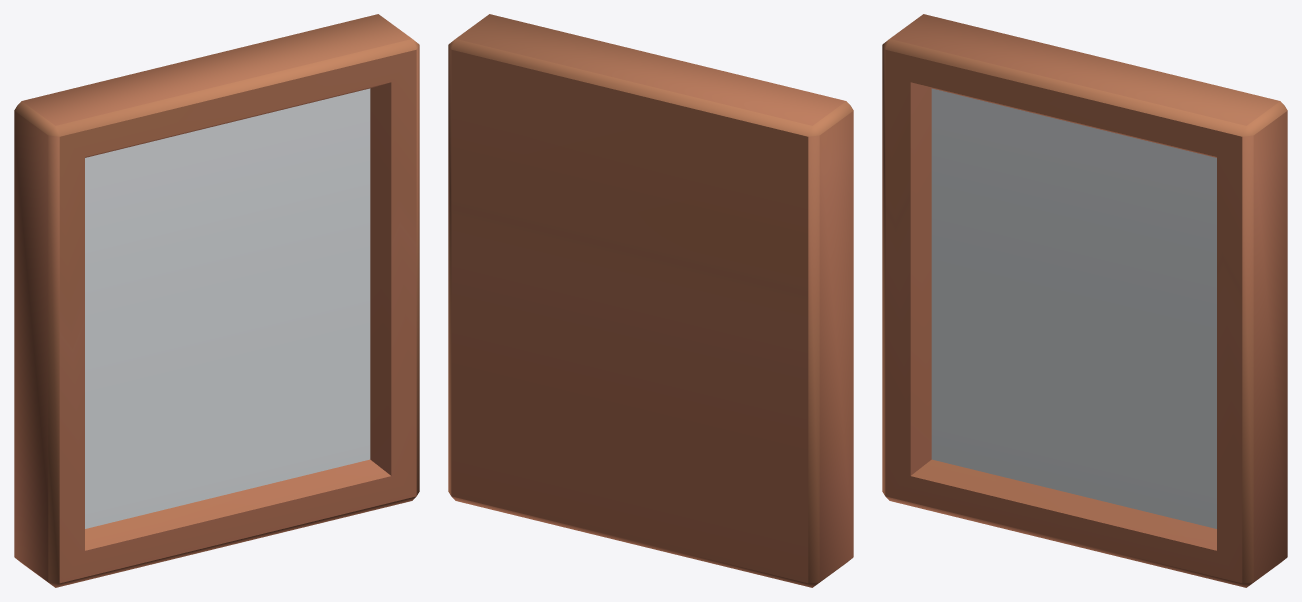
The model's file is pictureframe_large_A.glb.
3 views of the same model, side by side, from view 1: azimuth 30°, elevation 25°; view 2: azimuth 150°, elevation 25°; view 3: azimuth 330°, elevation 25° (orthographic).
Visible parts, largest first — view 1: pictureframe_large_A; view 2: pictureframe_large_A; view 3: pictureframe_large_A.
Part boxes in pixels (x1,y1,x2,y2): pictureframe_large_A: (14,14,419,587); pictureframe_large_A: (448,14,853,587); pictureframe_large_A: (882,14,1287,587).
Bounding box in the file's own units: 1.01 × 1.2 × 0.2.
Materials: 1 (1 with a texture image).
